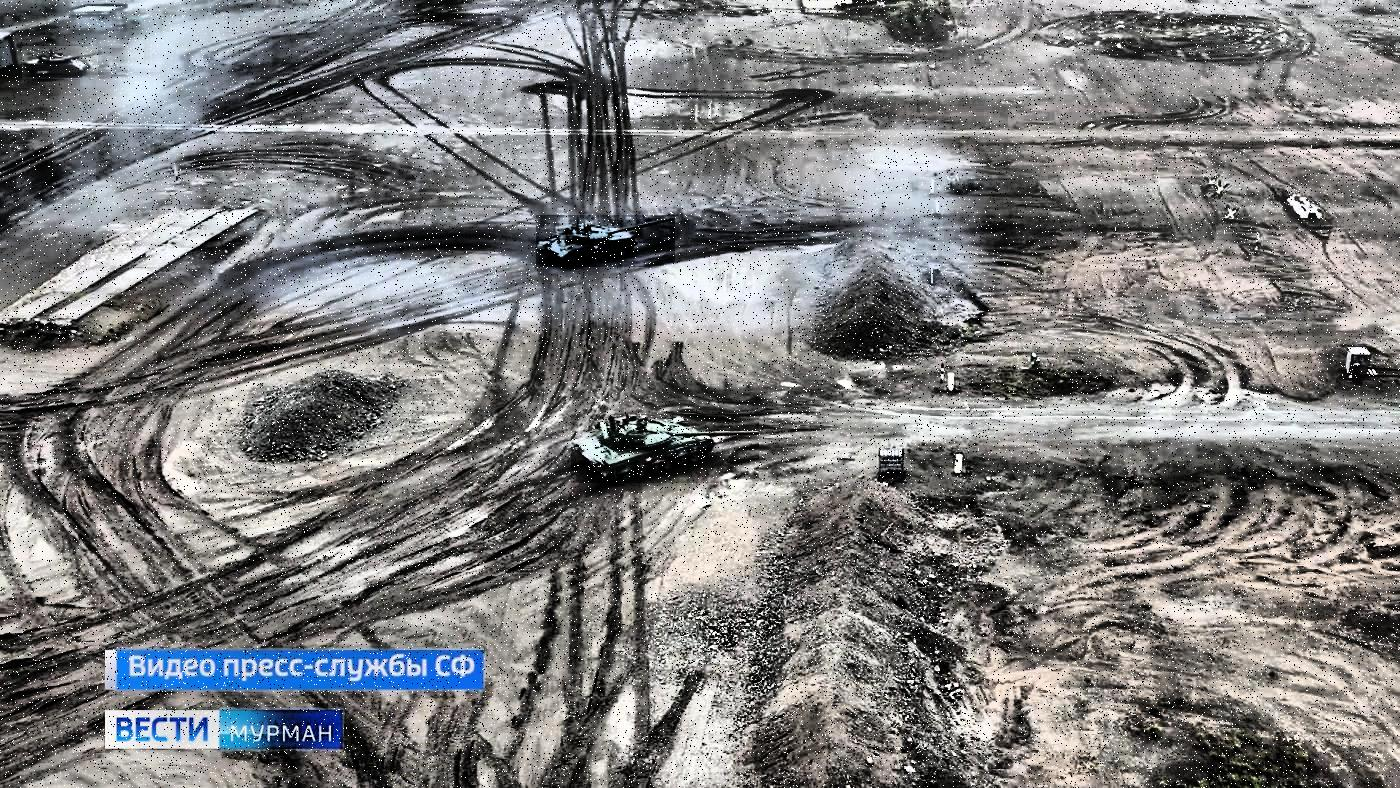military-vehicle: (571, 415, 759, 484), (536, 216, 675, 268), (23, 46, 99, 79)
